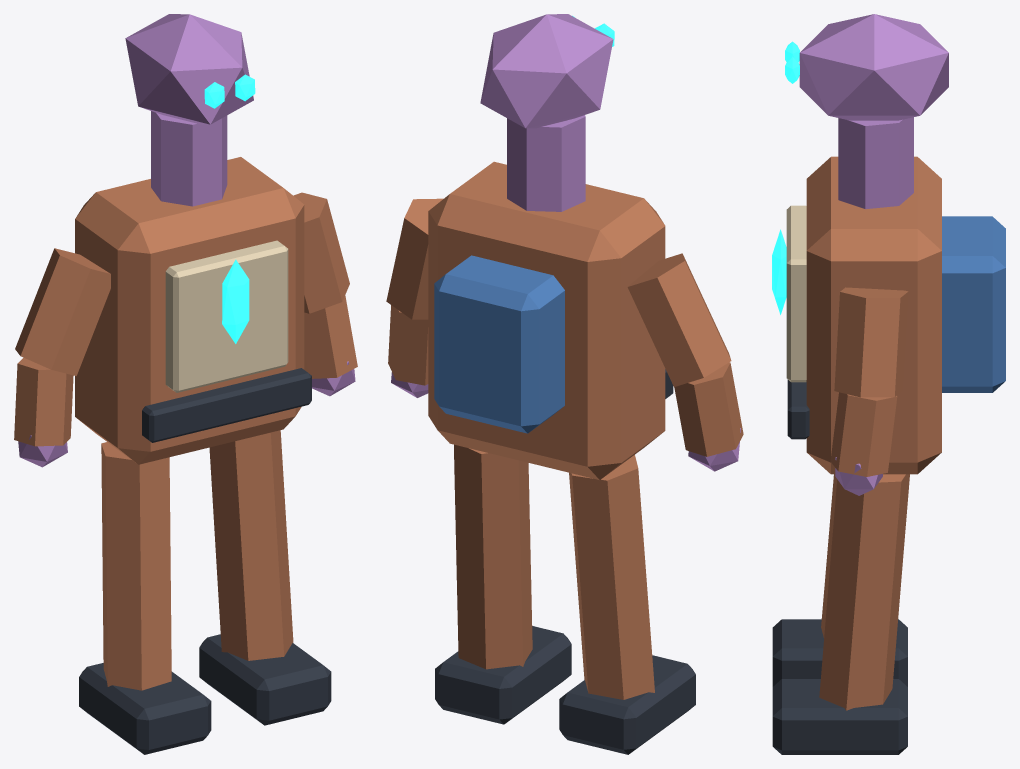
File: npcs_018_seed78877.glb
3 renders of one model, left to right at view 1: azimuth 30°, elevation 25°; view 2: azimuth 150°, elevation 25°; view 3: azimuth 270°, elevation 25°, orthographic. The views are drawn at different scales.
Parts seen in each view (by area): view 1: npcs_018_seed78877; view 2: npcs_018_seed78877; view 3: npcs_018_seed78877.
Part boxes in pixels (x1,y1,x2,y2): npcs_018_seed78877: (14,14,357,754); npcs_018_seed78877: (386,14,743,754); npcs_018_seed78877: (772,14,1005,754).
Size of the model in its own units: 1.05 by 2.04 by 0.6185.
